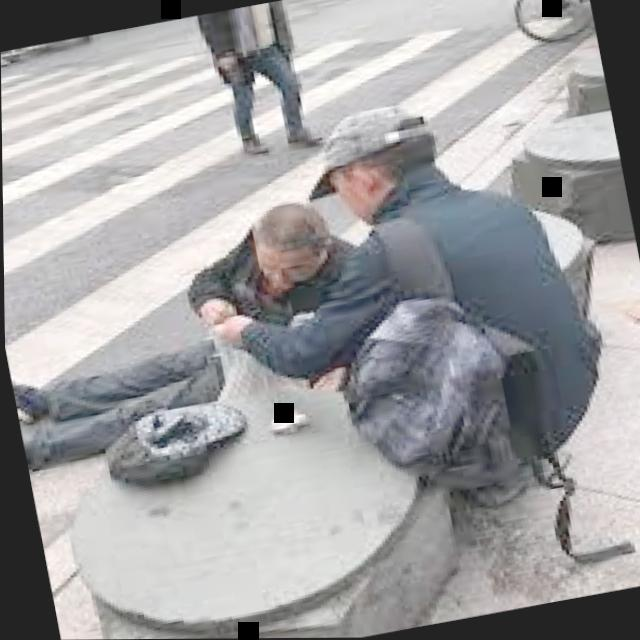Fall-Detected: (2, 170, 386, 472)
